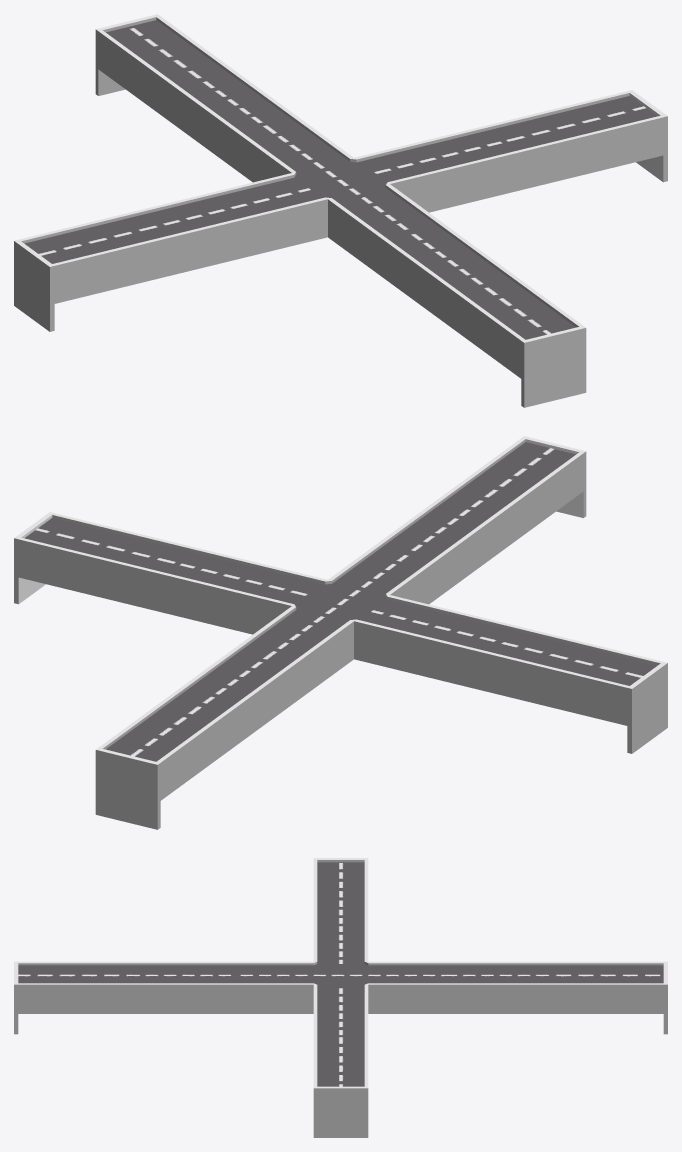
Rendered from level4_road.fbx.
The picture shows the model from 3 angles, top to bottom: view 1: azimuth 30°, elevation 25°; view 2: azimuth 150°, elevation 25°; view 3: azimuth 270°, elevation 25°; orthographic projection. The views are drawn at different scales.
Parts seen in each view (by area): view 1: level4_road; view 2: level4_road; view 3: level4_road.
Boxes of the visible parts, x1,y1,x2,y2 form: level4_road: (14,14,667,407); level4_road: (14,436,667,829); level4_road: (14,858,667,1137).
Size of the model in its own units: 9.95 by 1 by 11.95.
